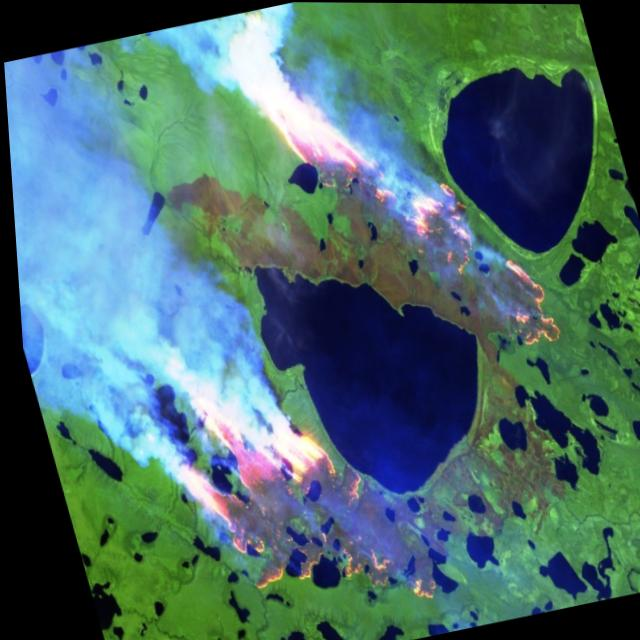fire: (56, 0, 624, 640)
